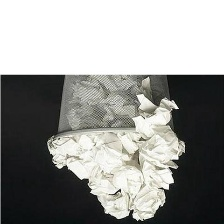tissue: (42, 74, 190, 224)
